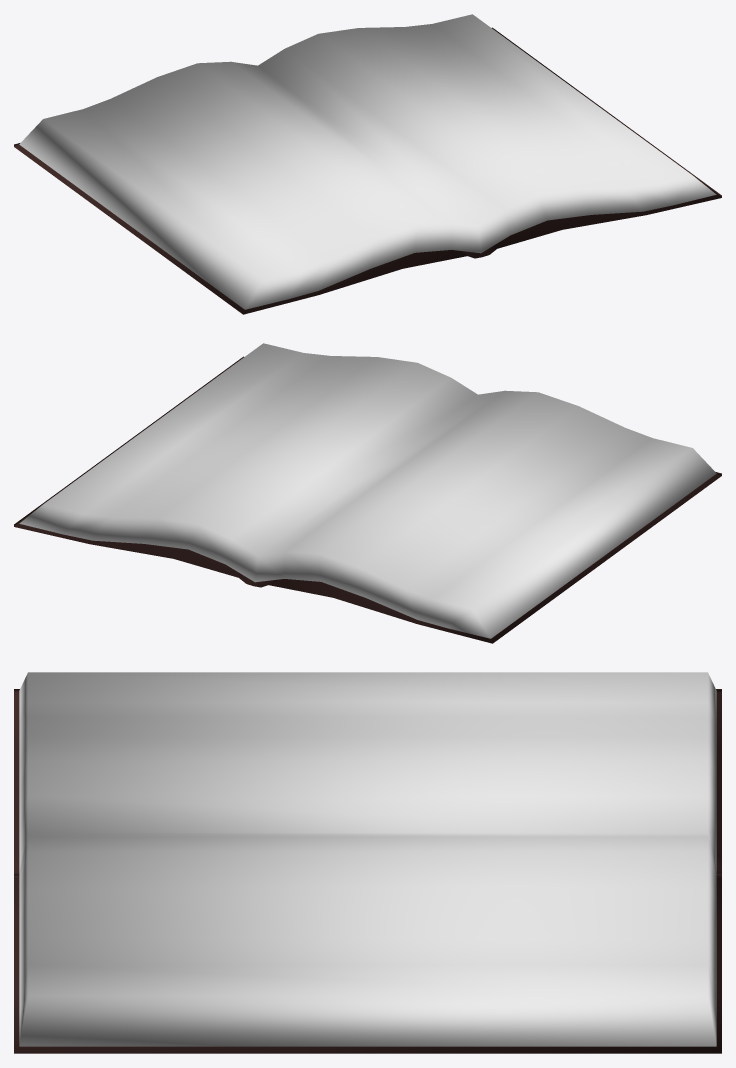
Rendered from book.blend.fbx.
3 views of the same model, one above another, from view 1: azimuth 30°, elevation 25°; view 2: azimuth 150°, elevation 25°; view 3: azimuth 270°, elevation 25° (orthographic). The views are drawn at different scales.
Parts seen in each view (by area): view 1: book, book_cover; view 2: book, book_cover; view 3: book, book_cover.
Boxes of the visible parts, <box> form: book: <box>19,14,716,309</box>; book_cover: <box>14,27,721,314</box>; book: <box>19,343,716,638</box>; book_cover: <box>14,356,721,643</box>; book: <box>19,672,716,1046</box>; book_cover: <box>14,689,721,1053</box>.
Bounding box in the file's own units: 203 × 17.88 × 168.
